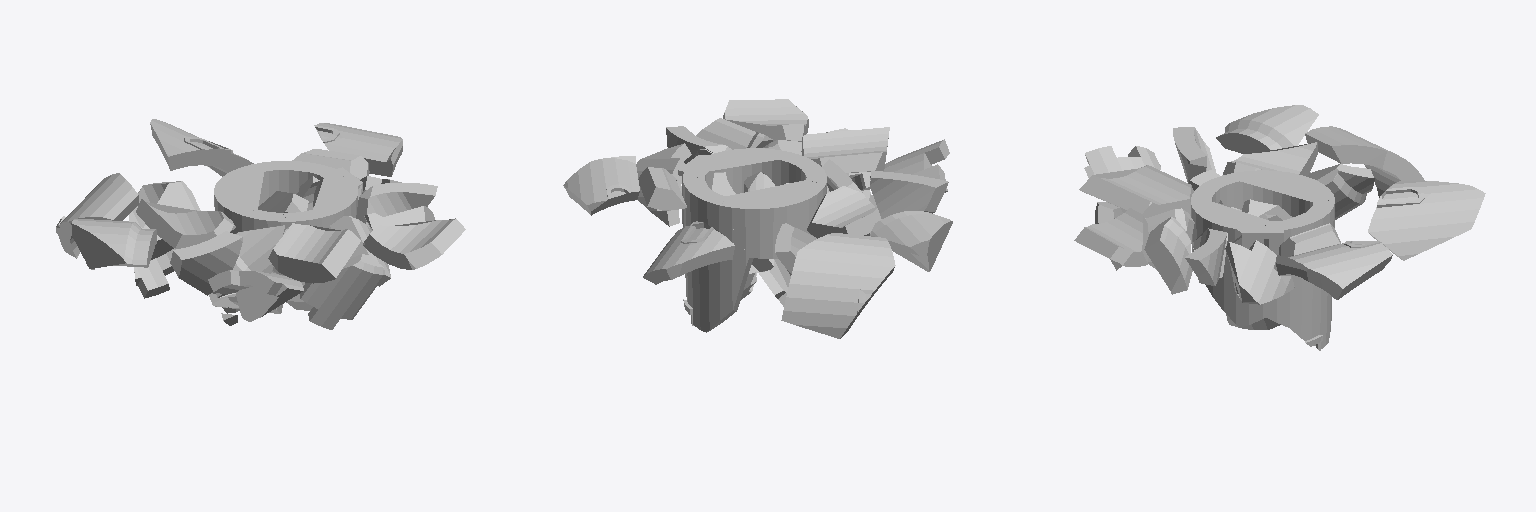
The model's file is destruction_tower_000068.obj.
3 views of the same model, side by side, from view 1: azimuth 30°, elevation 25°; view 2: azimuth 150°, elevation 25°; view 3: azimuth 270°, elevation 25° (orthographic).
Visible parts, largest first — view 1: tower.001_cell.024_Mesh.024, tower.001_cell.011_Mesh.011, tower.001_cell.005_Mesh.005, tower.001_cell.021_Mesh.021, tower.001_cell.006_Mesh.006, tower.001_cell.009_Mesh.009, tower.001_cell.007_Mesh.007, tower.001_cell.025_Mesh.025, tower.001_cell.003_Mesh.003, tower.001_cell.002_Mesh.002, tower.001_cell.012_Mesh.012, tower.001_cell.028_Mesh.028 (+9 smaller); view 2: tower.001_cell.003_Mesh.003, tower.001_cell.017_Mesh.017, tower.001_cell.015_Mesh.015, tower.001_cell.012_Mesh.012, tower.001_cell.025_Mesh.025, tower.001_cell.024_Mesh.024, tower.001_cell.005_Mesh.005, tower.001_cell.028_Mesh.028, tower.001_cell.002_Mesh.002, tower.001_cell.021_Mesh.021, tower.001_cell.009_Mesh.009, tower.001_cell.016_Mesh.016 (+8 smaller); view 3: tower.001_cell.025_Mesh.025, tower.001_cell.012_Mesh.012, tower.001_cell.024_Mesh.024, tower.001_cell.017_Mesh.017, tower.001_cell.005_Mesh.005, tower.001_cell.003_Mesh.003, tower.001_cell.015_Mesh.015, tower.001_cell.030_Mesh.030, tower.001_cell.021_Mesh.021, tower.001_cell_Mesh, tower.001_cell.028_Mesh.028, tower.001_cell.020_Mesh.020 (+10 smaller).
Part boxes in pixels (bbox=[...]): tower.001_cell.024_Mesh.024: bbox=[268, 223, 360, 283]; tower.001_cell.011_Mesh.011: bbox=[300, 254, 384, 329]; tower.001_cell.005_Mesh.005: bbox=[71, 219, 156, 269]; tower.001_cell.021_Mesh.021: bbox=[363, 218, 465, 269]; tower.001_cell.006_Mesh.006: bbox=[208, 270, 303, 321]; tower.001_cell.009_Mesh.009: bbox=[136, 199, 235, 248]; tower.001_cell.007_Mesh.007: bbox=[129, 181, 200, 298]; tower.001_cell.025_Mesh.025: bbox=[150, 119, 253, 176]; tower.001_cell.003_Mesh.003: bbox=[56, 173, 138, 258]; tower.001_cell.002_Mesh.002: bbox=[170, 231, 242, 295]; tower.001_cell.012_Mesh.012: bbox=[314, 123, 402, 176]; tower.001_cell.028_Mesh.028: bbox=[283, 178, 362, 228]; tower.001_cell.003_Mesh.003: bbox=[781, 233, 895, 338]; tower.001_cell.017_Mesh.017: bbox=[683, 174, 753, 332]; tower.001_cell.015_Mesh.015: bbox=[722, 180, 825, 258]; tower.001_cell.012_Mesh.012: bbox=[563, 156, 639, 215]; tower.001_cell.025_Mesh.025: bbox=[643, 221, 734, 284]; tower.001_cell.024_Mesh.024: bbox=[801, 127, 889, 175]; tower.001_cell.005_Mesh.005: bbox=[870, 211, 952, 271]; tower.001_cell.028_Mesh.028: bbox=[698, 148, 815, 193]; tower.001_cell.002_Mesh.002: bbox=[870, 171, 948, 218]; tower.001_cell.021_Mesh.021: bbox=[723, 99, 808, 141]; tower.001_cell.009_Mesh.009: bbox=[807, 186, 881, 238]; tower.001_cell.016_Mesh.016: bbox=[638, 167, 686, 210]; tower.001_cell.025_Mesh.025: bbox=[1368, 181, 1485, 260]; tower.001_cell.012_Mesh.012: bbox=[1276, 241, 1392, 299]; tower.001_cell.024_Mesh.024: bbox=[1079, 165, 1193, 217]; tower.001_cell.017_Mesh.017: bbox=[1289, 200, 1334, 350]; tower.001_cell.005_Mesh.005: bbox=[1216, 105, 1318, 153]; tower.001_cell.003_Mesh.003: bbox=[1305, 126, 1424, 197]; tower.001_cell.015_Mesh.015: bbox=[1240, 170, 1334, 216]; tower.001_cell.030_Mesh.030: bbox=[1225, 240, 1294, 304]; tower.001_cell.021_Mesh.021: bbox=[1074, 208, 1148, 266]; tower.001_cell_Mesh: bbox=[1144, 217, 1192, 294]; tower.001_cell.028_Mesh.028: bbox=[1191, 186, 1269, 251]; tower.001_cell.020_Mesh.020: bbox=[1205, 228, 1268, 326].
Size of the model in its own units: 118 by 44.49 by 122.